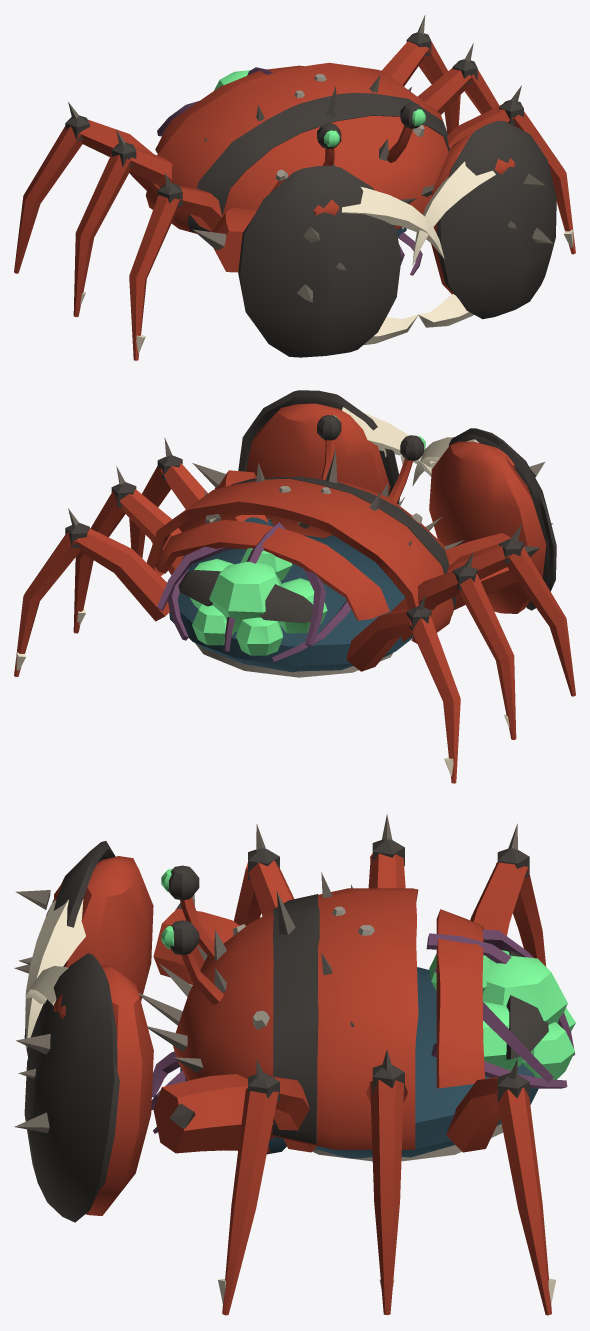
File: Monster_TideCrab.fbx
3 views of the same model, one above another, from view 1: azimuth 30°, elevation 25°; view 2: azimuth 150°, elevation 25°; view 3: azimuth 270°, elevation 25° (orthographic). The views are drawn at different scales.
Visible parts, largest first — view 1: Body, RightClaw, LeftClaw, RightLeg1, RightLeg2, RightLeg3, LeftLeg1, LeftLeg3, LeftLeg2, RightPincer, LeftPincer, RightArm (+2 smaller); view 2: Body, RightClaw, LeftClaw, BackGlow, LeftLeg3, RightLeg3, RightLeg2, RightLeg1, LeftLeg2, LeftLeg1, RightArm, LeftPincer (+4 smaller); view 3: Body, LeftClaw, RightClaw, LeftLeg3, LeftLeg1, BackGlow, LeftArm, LeftLeg2, RightLeg3, RightPincer, RightLeg1, RightArm (+4 smaller).
Boxes of the visible parts, x1,y1,x2,y2 form: Body: [145, 62, 449, 275]; RightClaw: [238, 165, 418, 357]; LeftClaw: [418, 121, 556, 327]; RightLeg1: [129, 172, 222, 360]; RightLeg2: [73, 130, 172, 317]; RightLeg3: [14, 102, 153, 273]; LeftLeg1: [447, 85, 575, 254]; LeftLeg3: [381, 15, 460, 134]; LeftLeg2: [417, 43, 499, 114]; RightPincer: [313, 187, 444, 258]; LeftPincer: [412, 158, 514, 266]; RightArm: [193, 207, 256, 272]; Body: [146, 449, 464, 677]; RightClaw: [429, 428, 556, 613]; LeftClaw: [238, 390, 399, 503]; BackGlow: [189, 548, 327, 655]; LeftLeg3: [14, 508, 169, 676]; RightLeg3: [346, 595, 460, 783]; RightLeg2: [391, 553, 516, 739]; RightLeg1: [447, 524, 575, 696]; LeftLeg2: [73, 466, 192, 633]; LeftLeg1: [129, 437, 207, 557]; RightArm: [445, 533, 539, 609]; LeftPincer: [342, 407, 431, 476]; Body: [138, 872, 575, 1161]; LeftClaw: [14, 953, 153, 1222]; RightClaw: [14, 841, 153, 1057]; LeftLeg3: [446, 1059, 556, 1316]; LeftLeg1: [218, 1059, 317, 1315]; BackGlow: [429, 950, 575, 1079]; LeftArm: [153, 1074, 286, 1154]; LeftLeg2: [366, 1049, 407, 1315]; RightLeg3: [470, 823, 546, 966]; RightPincer: [25, 883, 85, 1048]; RightLeg1: [234, 824, 294, 925]; RightArm: [153, 894, 239, 985].
Bounding box in the file's own units: 10.1 × 4.56 × 8.24.
